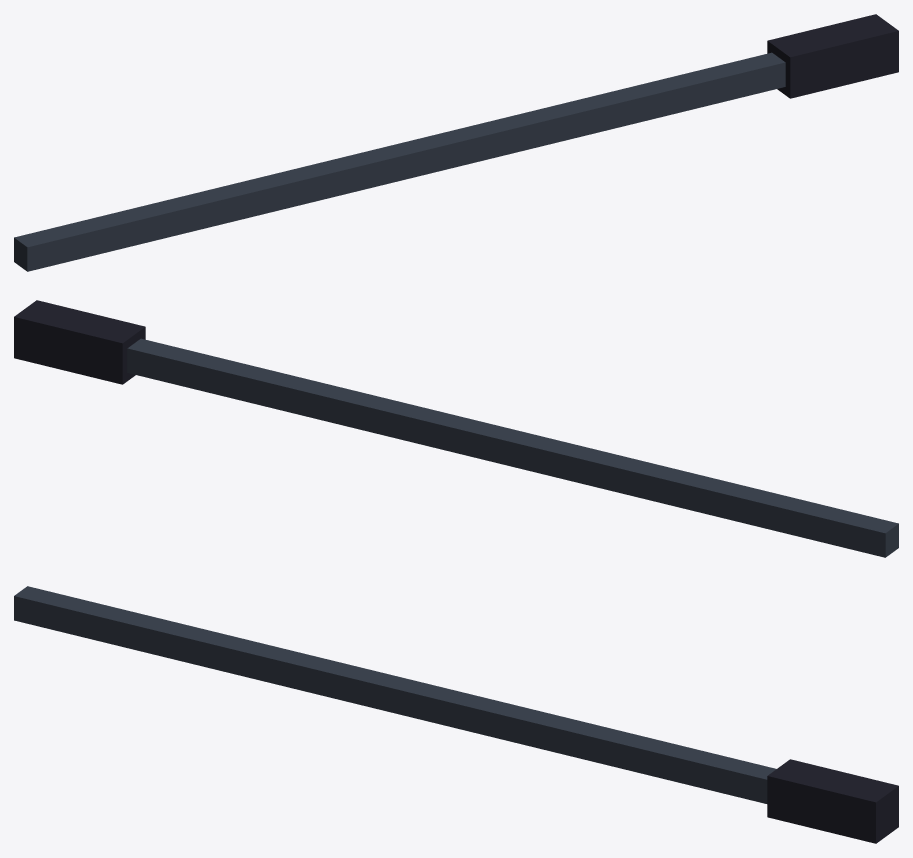
File: Cable_C_1_2.glb
3 views of the same model, one above another, from view 1: azimuth 30°, elevation 25°; view 2: azimuth 150°, elevation 25°; view 3: azimuth 330°, elevation 25° (orthographic).
Parts seen in each view (by area): view 1: Cable_C_1_2; view 2: Cable_C_1_2; view 3: Cable_C_1_2.
Part boxes in pixels (left/top/right/bottom): Cable_C_1_2: left=14, top=14, right=898, bottom=271; Cable_C_1_2: left=14, top=300, right=898, bottom=557; Cable_C_1_2: left=14, top=586, right=898, bottom=843.
Bounding box in the file's own units: 2.15 × 0.0983 × 0.0983.
1 material, 1 textured.
